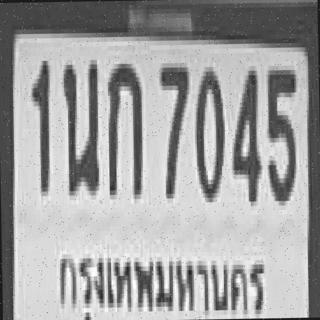A01: (105, 59, 142, 195)
A25: (61, 55, 97, 191)
N00: (194, 62, 224, 198)
N01: (30, 56, 50, 192)
N04: (230, 66, 259, 202)
N05: (266, 65, 296, 201)
N07: (158, 58, 189, 194)
P04: (53, 230, 267, 320)
